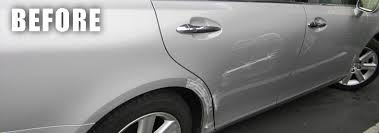Scratch: (219, 50, 282, 79), (186, 77, 217, 123), (299, 33, 324, 56)
